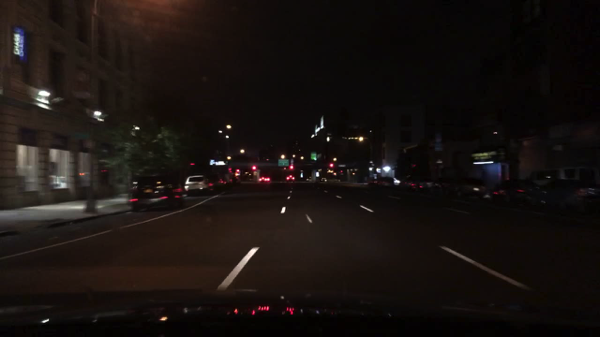car: (128, 164, 185, 213), (541, 179, 598, 219), (485, 179, 543, 211), (527, 167, 593, 187), (398, 174, 442, 195), (451, 176, 487, 200), (430, 178, 459, 200), (184, 175, 209, 197), (378, 175, 401, 191), (207, 174, 226, 192), (366, 177, 381, 190), (222, 173, 235, 187), (233, 175, 242, 185), (286, 174, 295, 184), (319, 176, 329, 184), (301, 176, 310, 183), (262, 157, 274, 162), (258, 176, 265, 183), (264, 176, 270, 184), (243, 177, 252, 182), (244, 172, 249, 177), (248, 172, 252, 177)
traffic light: (99, 168, 108, 175), (329, 162, 336, 168), (411, 162, 417, 169), (188, 162, 195, 167), (235, 168, 241, 173), (251, 166, 257, 170), (290, 164, 294, 170), (228, 167, 232, 173), (340, 169, 343, 174)
traffic sign: (548, 125, 571, 139), (74, 132, 90, 140), (551, 144, 563, 152), (278, 159, 289, 167), (433, 144, 443, 151), (433, 132, 440, 141), (337, 164, 346, 168), (316, 172, 319, 177)
